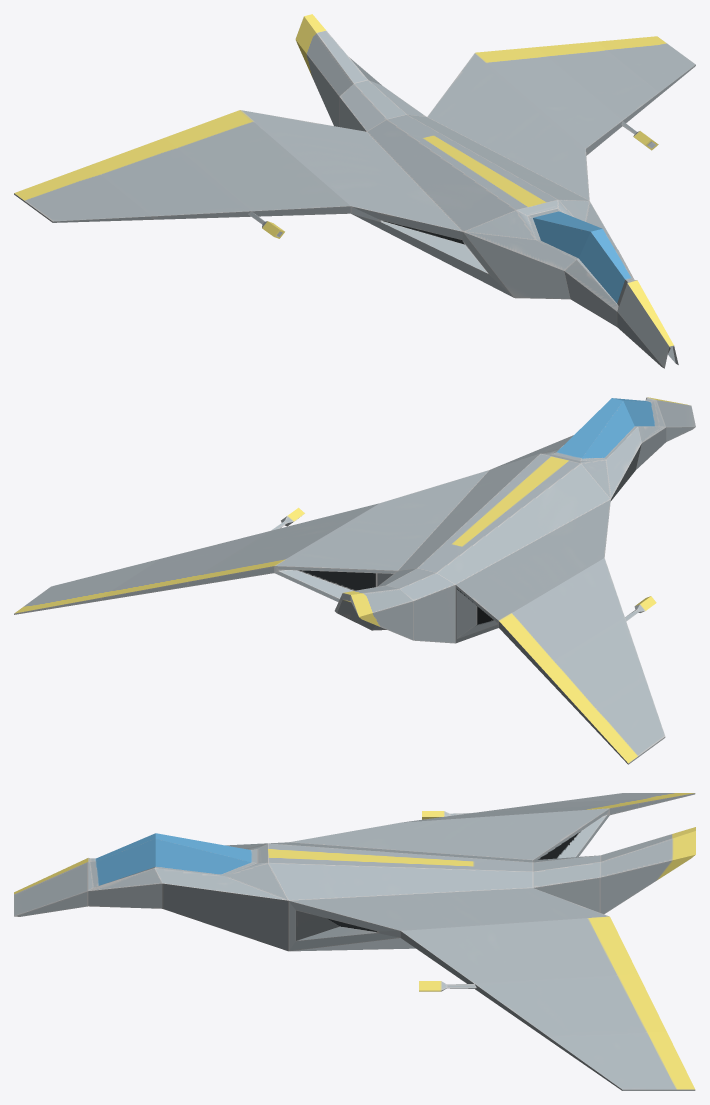
Rendered from NaveCinza.fbx.
3 renders of one model, top to bottom at view 1: azimuth 30°, elevation 25°; view 2: azimuth 150°, elevation 25°; view 3: azimuth 270°, elevation 25°, orthographic. The views are drawn at different scales.
Visible parts, largest first — view 1: Naves:Box001; view 2: Naves:Box001; view 3: Naves:Box001.
Boxes of the visible parts, <box> form: Naves:Box001: <box>14,14,695,368</box>; Naves:Box001: <box>14,397,695,764</box>; Naves:Box001: <box>14,793,695,1090</box>.
Bounding box in the file's own units: 94.54 × 17.24 × 91.92.
